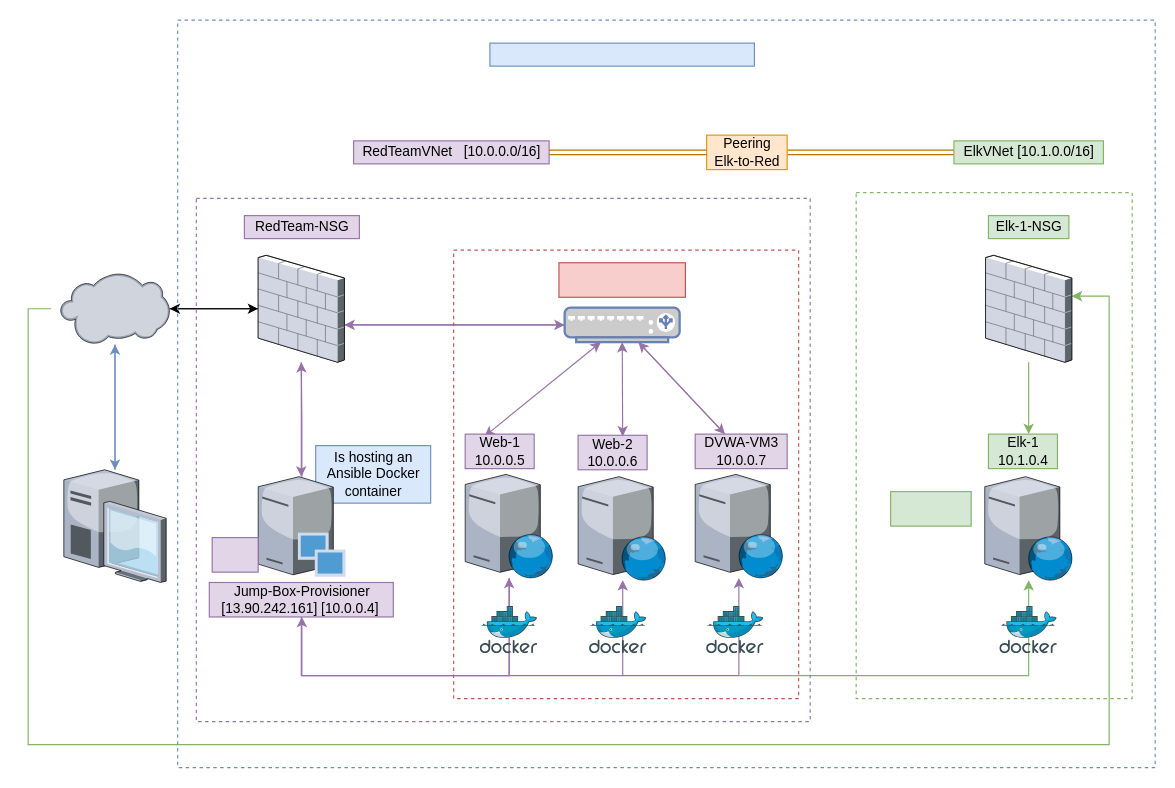
Image size: 1175x788. Some labels were removed from this diagram. Here are the shapes that lost their labels. From the top down, the box of each, then its label:
(489, 42, 754, 66): Red Team Resource Group
(558, 262, 685, 297): Red-Team-LB [52.152.221.243]
(60, 273, 169, 344): Azure
(890, 490, 971, 526): Ports -p [80] [22]
(211, 536, 258, 572): Port -p 22
